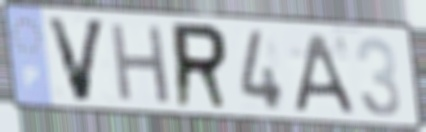3: (354, 34, 403, 118)
4: (237, 27, 286, 113)
A: (290, 31, 357, 117)
H: (108, 20, 174, 106)
R: (170, 19, 232, 112)
V: (43, 14, 110, 105)
